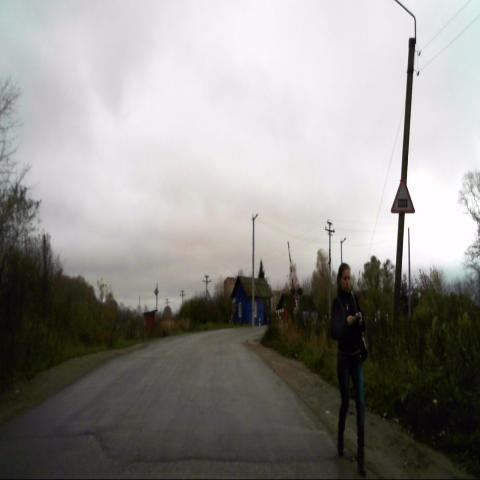1_1: (390, 177, 416, 214)
